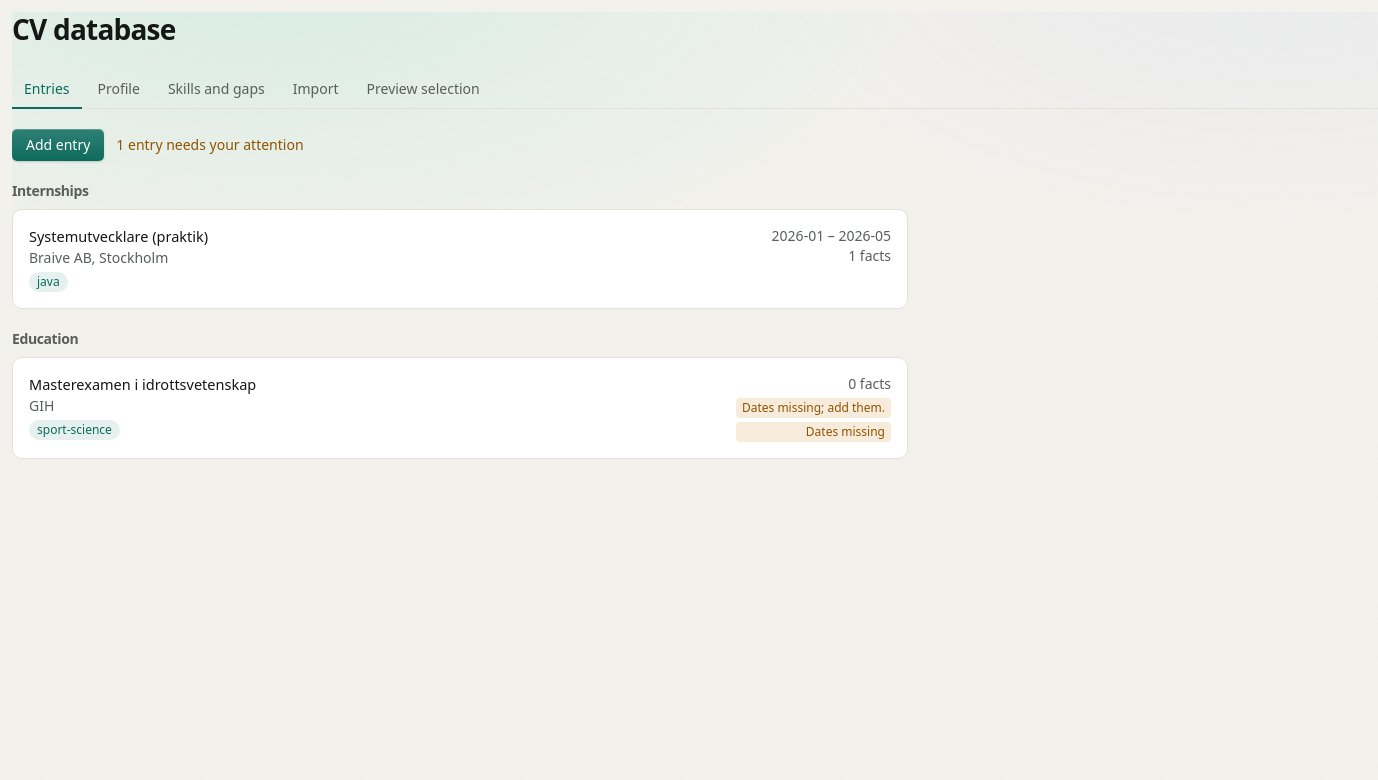
Test case: import wizard › has a real Browse files button, not just a clickable line of text
Click the tab "Import". click: x=316, y=90
box: [281,71,351,109]
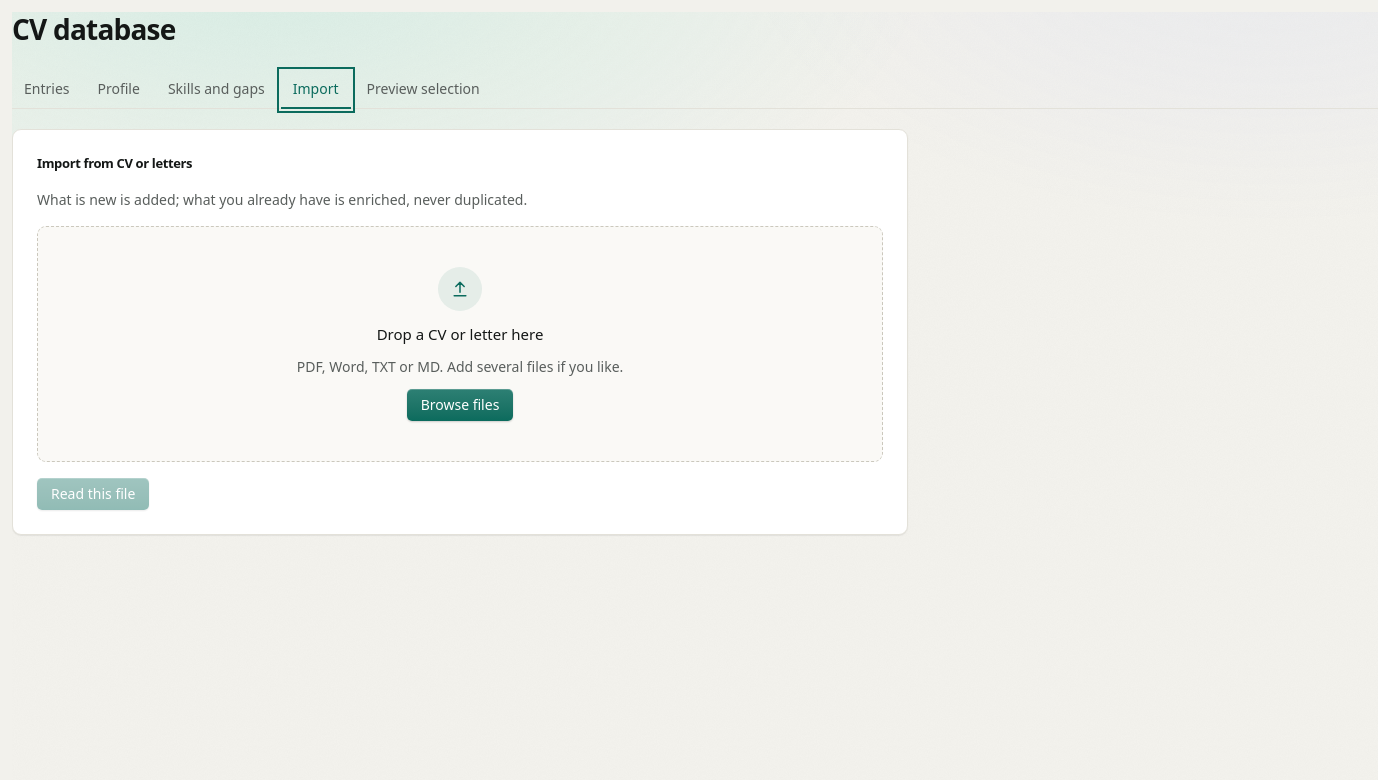
Expected: the button "Browse files" is shown, [407,389,513,421]
